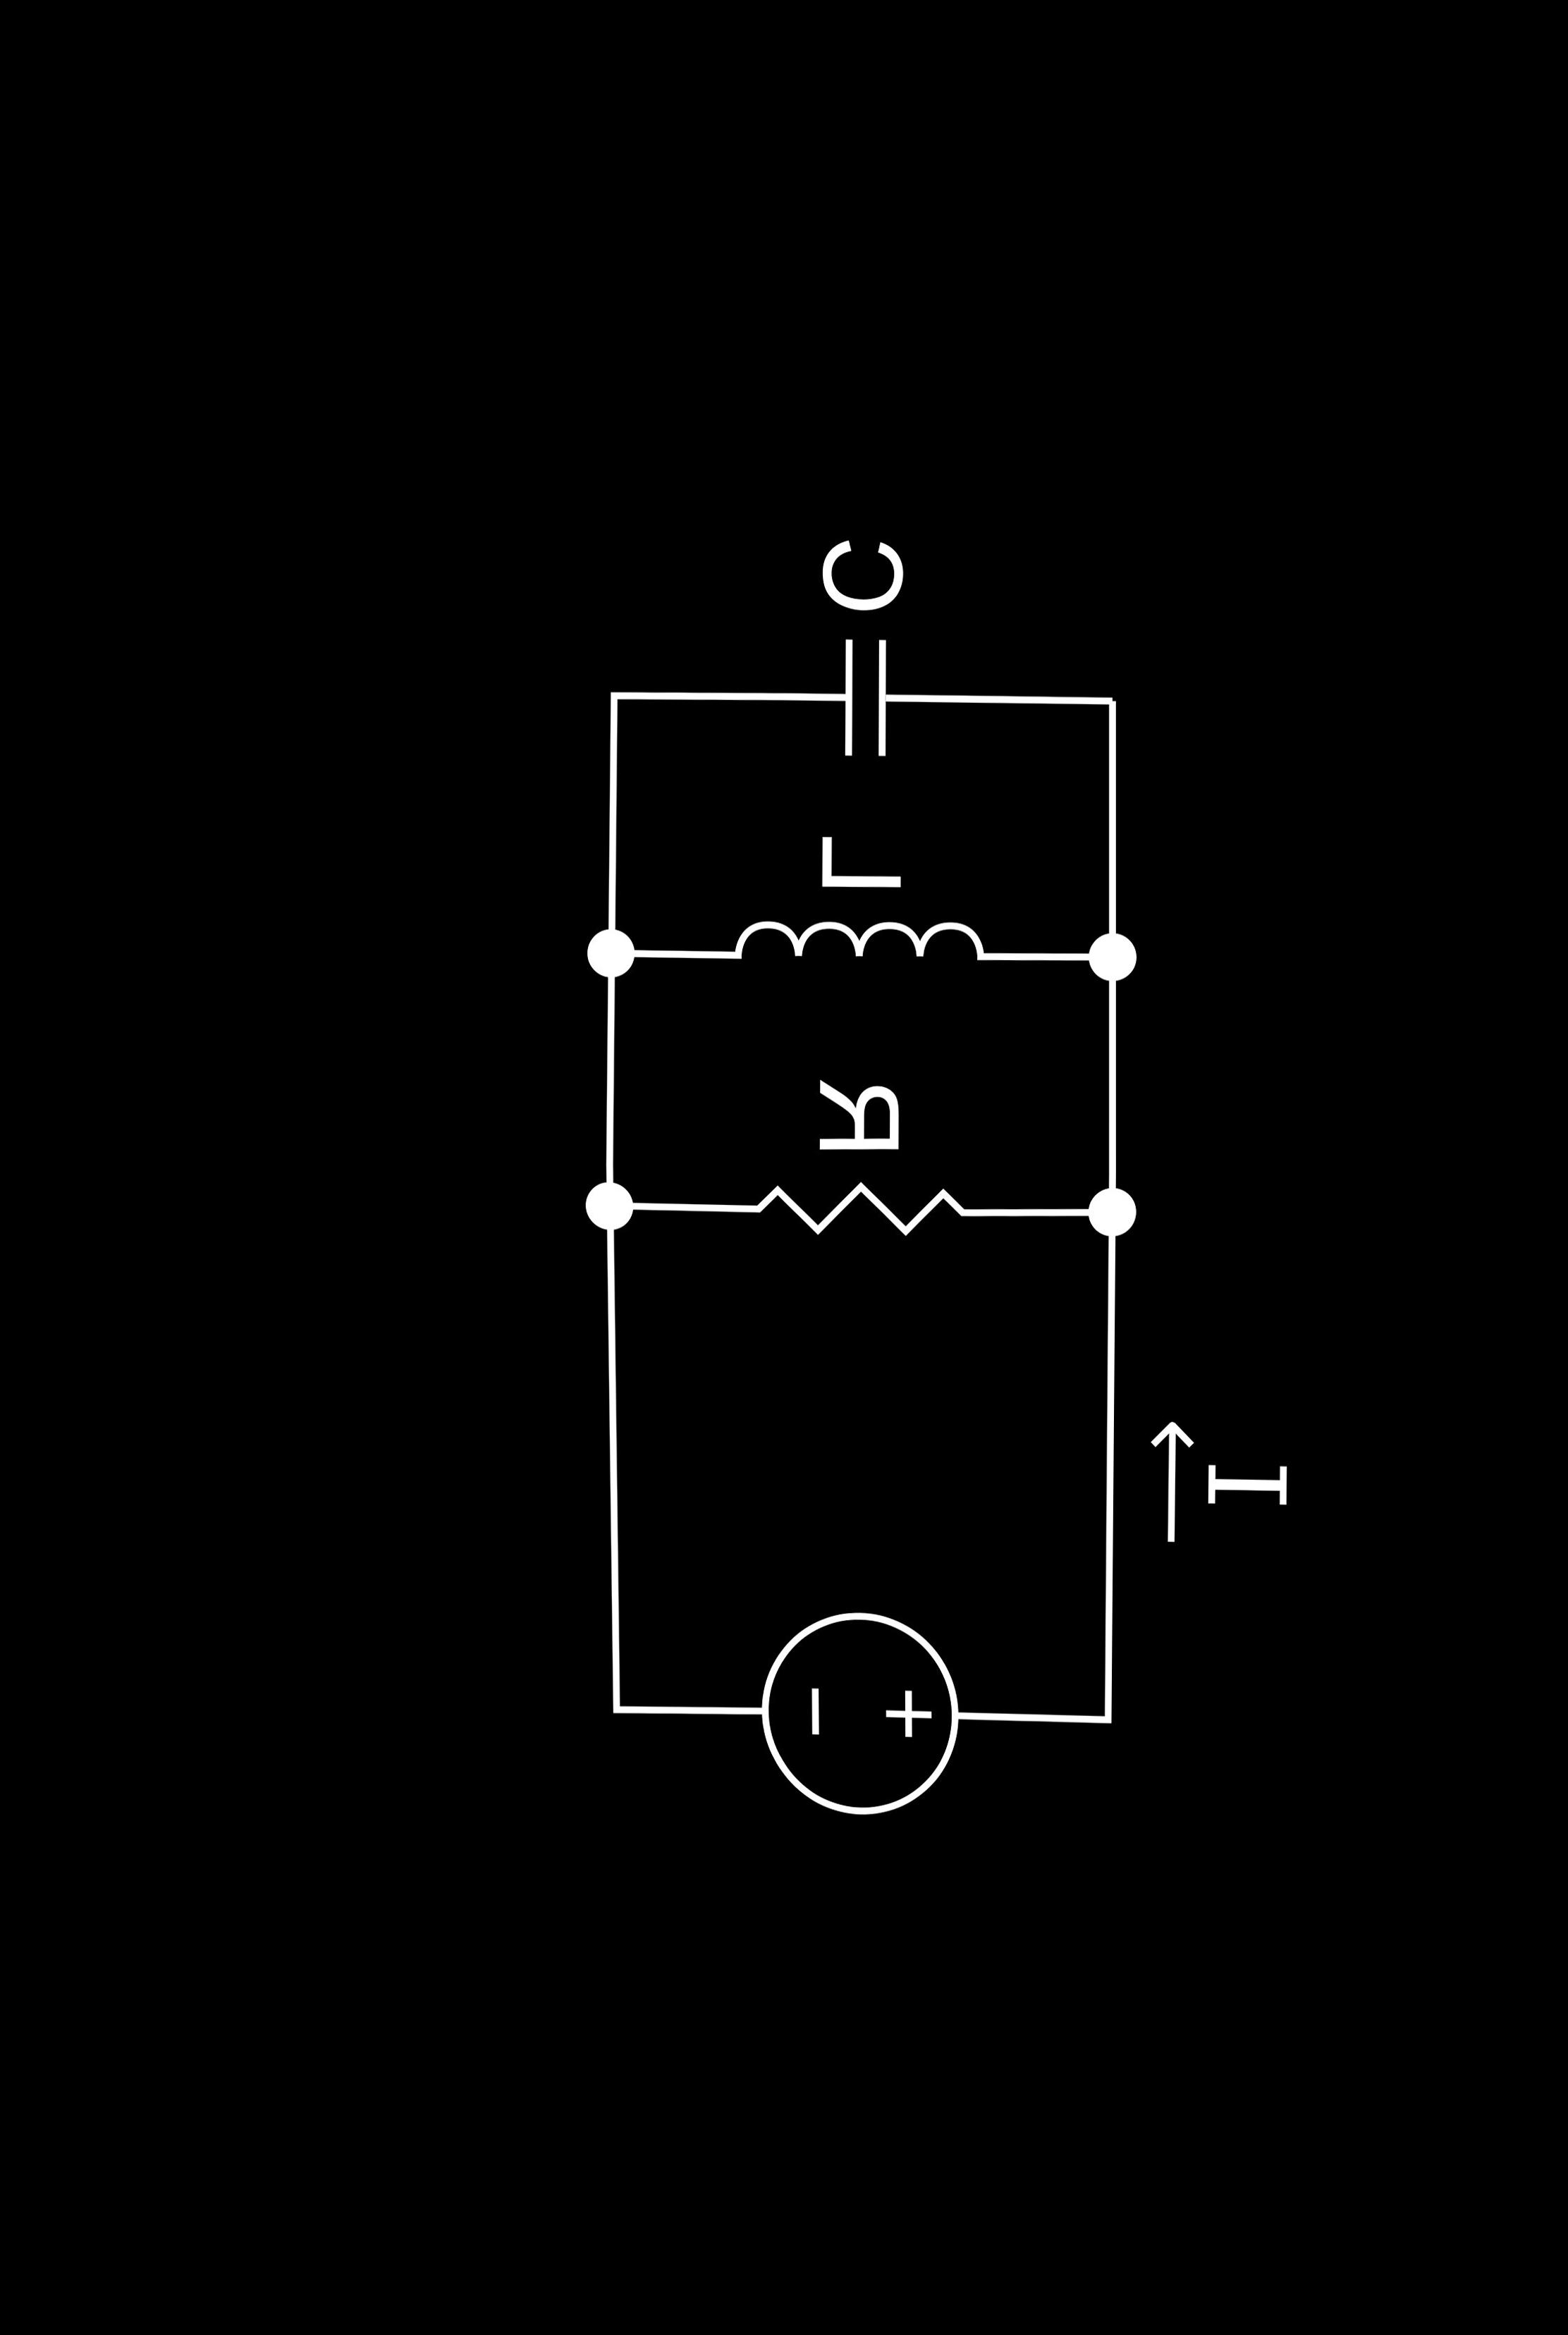Battery: (682, 1569, 1024, 1884)
